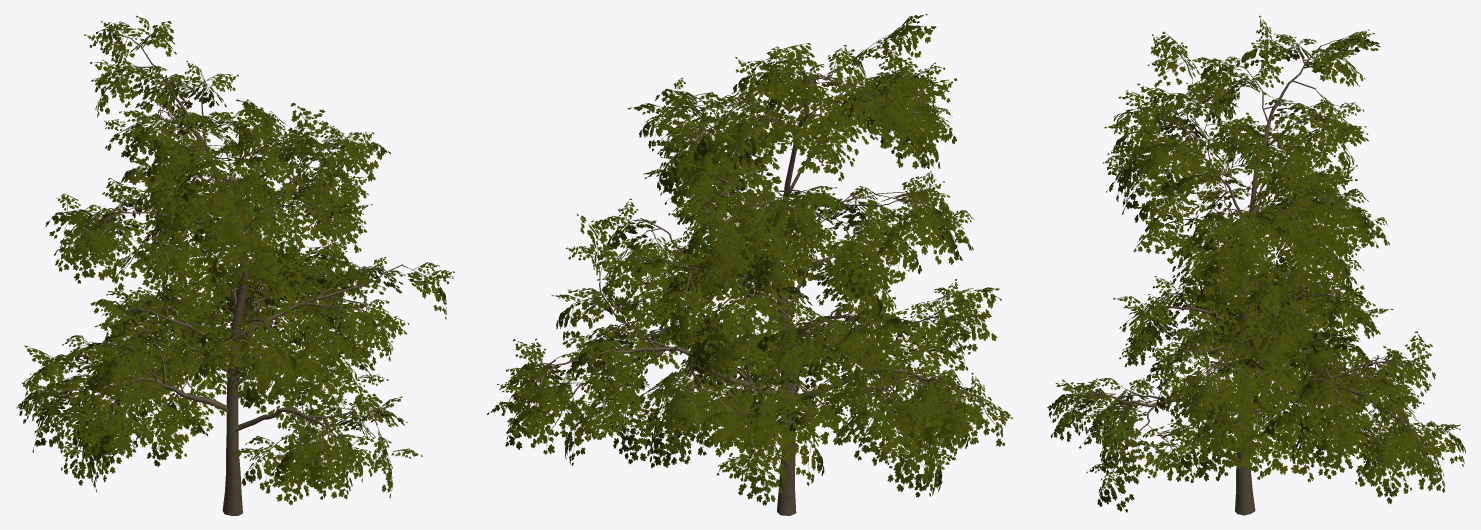
Rendered from Maple-Medium-A-Candidate.glb.
The picture shows the model from 3 angles, left to right: view 1: azimuth 30°, elevation 25°; view 2: azimuth 150°, elevation 25°; view 3: azimuth 270°, elevation 25°; orthographic projection. The views are drawn at different scales.
Visible parts, largest first — view 1: Maple_medium_A; view 2: Maple_medium_A; view 3: Maple_medium_A.
Boxes of the visible parts, x1=… form: Maple_medium_A: x1=16, y1=15, x2=454, y2=515; Maple_medium_A: x1=487, y1=14, x2=1012, y2=515; Maple_medium_A: x1=1047, y1=16, x2=1465, y2=515.
Size of the model in its own units: 11.65 by 12.62 by 10.62.
Materials: 2 (2 with a texture image).
